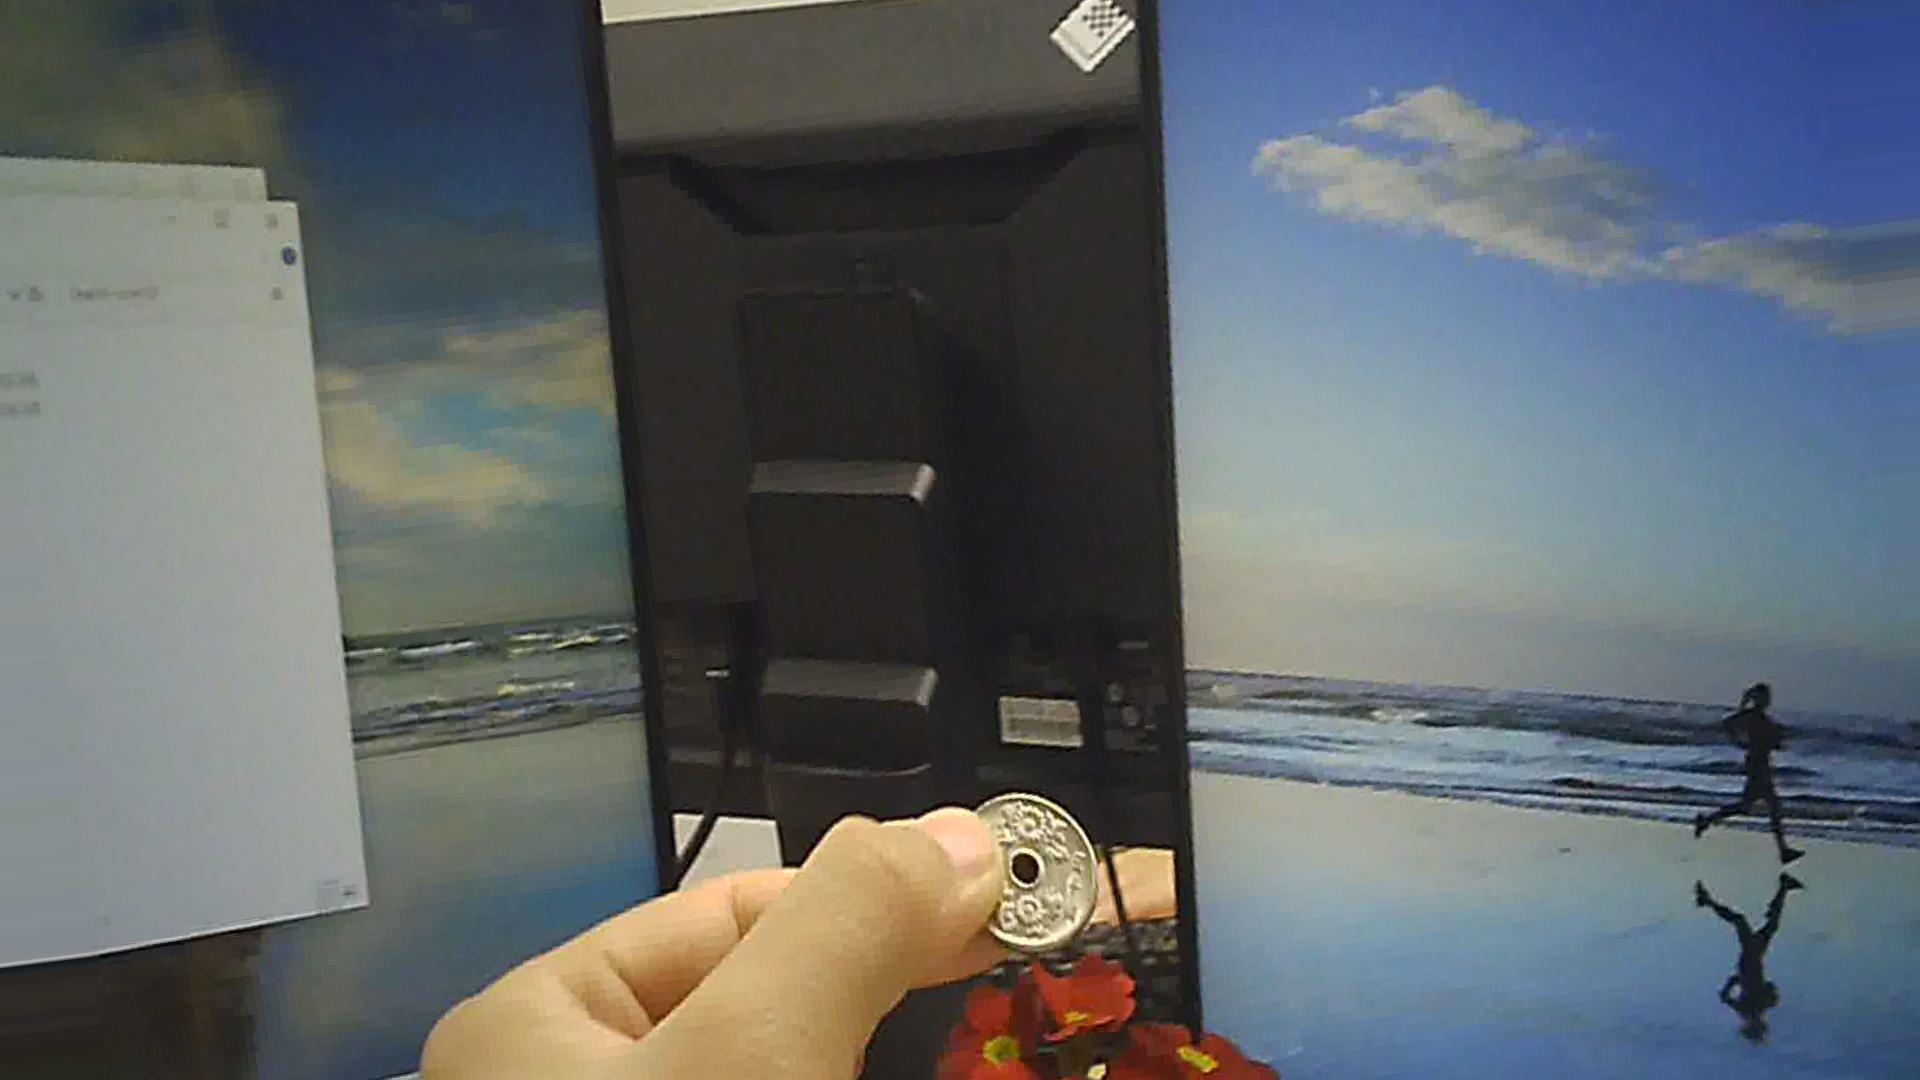50 Yen: (959, 775, 1106, 963)
